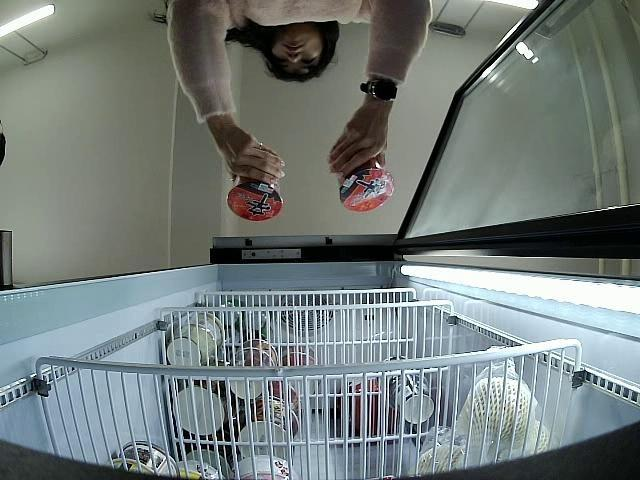02_shinRamen_S: (339, 158, 394, 211), (228, 172, 282, 222)
